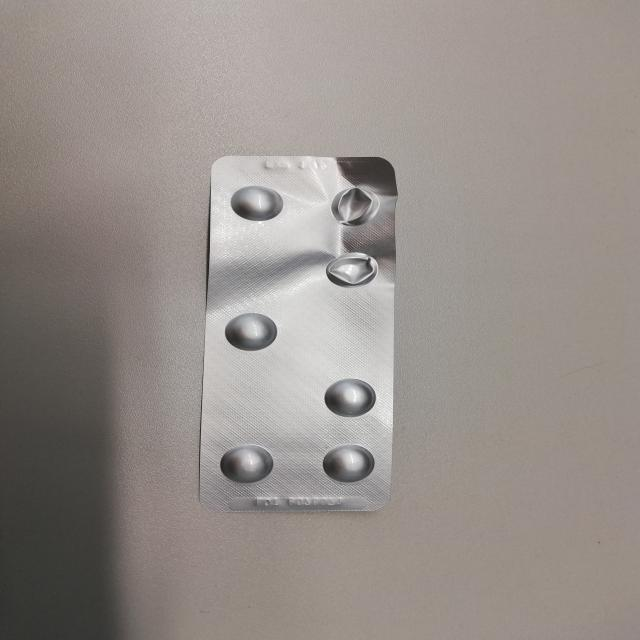Empty: (319, 248, 385, 290), (328, 181, 383, 231)
Pill: (320, 375, 380, 421), (221, 311, 285, 354), (216, 443, 275, 487), (319, 442, 377, 485), (227, 183, 287, 224)
